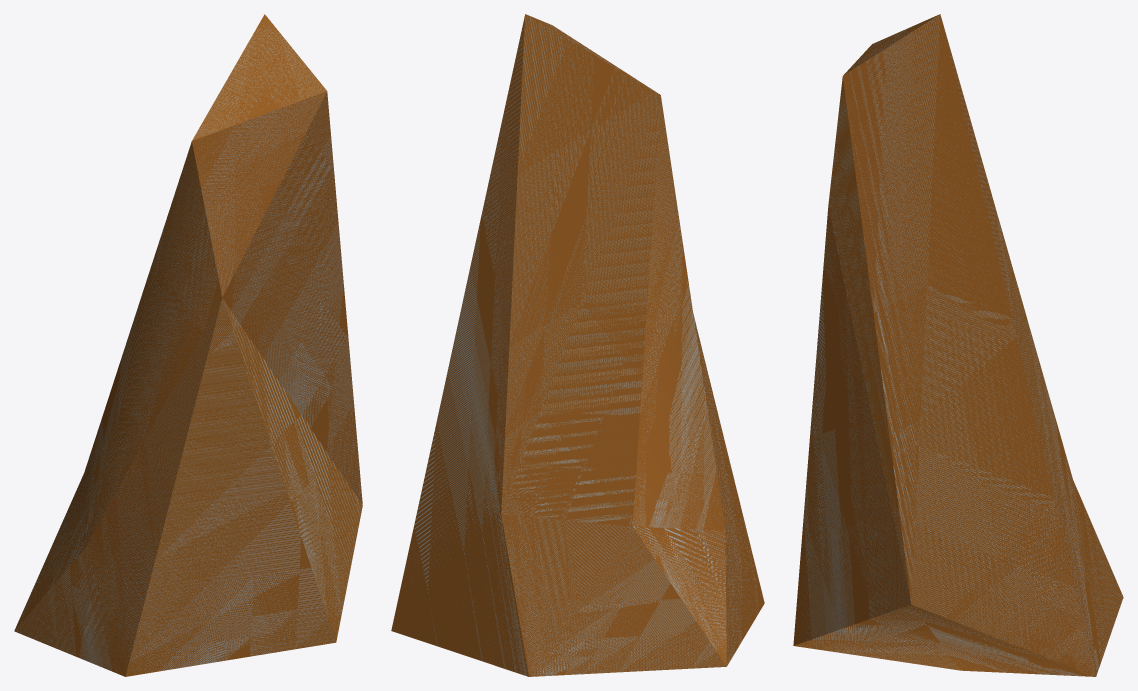
File: Rock_Large_Sharp_Dirt_03.fbx
The picture shows the model from 3 angles, left to right: view 1: azimuth 30°, elevation 25°; view 2: azimuth 150°, elevation 25°; view 3: azimuth 270°, elevation 25°; orthographic projection. The views are drawn at different scales.
Parts seen in each view (by area): view 1: Model; view 2: Model; view 3: Model.
Boxes of the visible parts, <box> form: Model: <box>14,14,362,676</box>; Model: <box>391,14,764,676</box>; Model: <box>793,14,1123,676</box>.
Size of the model in its own units: 352 by 669 by 298.
